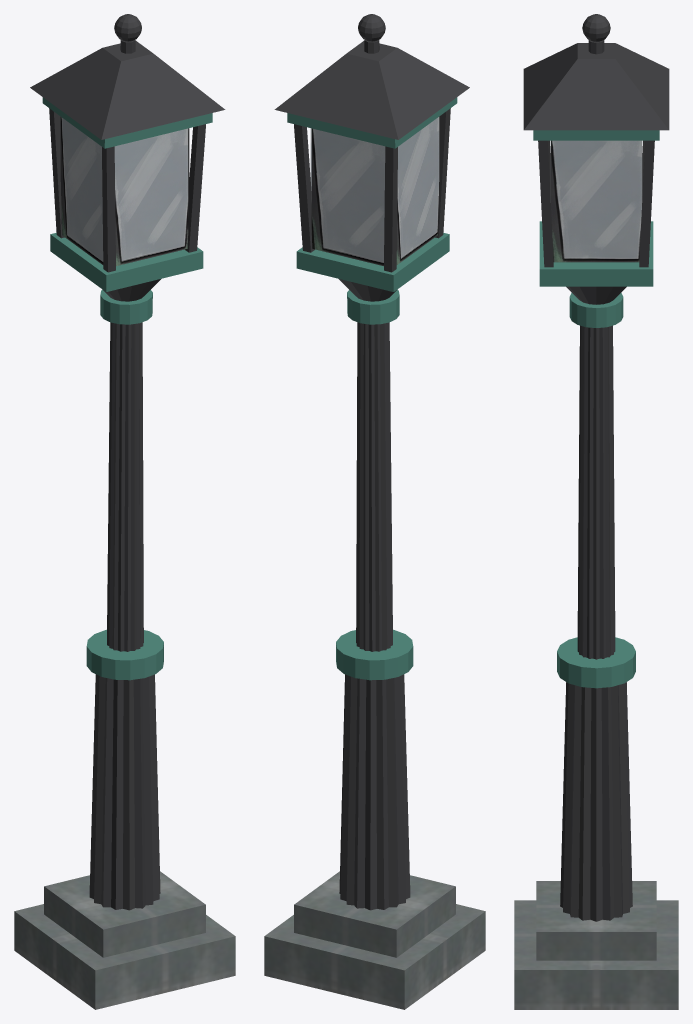
Rendered from lamp_post.glb.
The picture shows the model from 3 angles, left to right: view 1: azimuth 30°, elevation 25°; view 2: azimuth 150°, elevation 25°; view 3: azimuth 270°, elevation 25°; orthographic projection.
Visible parts, largest first — view 1: post, glass; view 2: post, glass; view 3: post, glass.
Boxes of the visible parts, <box> form: post: <box>14,14,235,1009</box>; glass: <box>60,117,189,265</box>; post: <box>264,14,485,1009</box>; glass: <box>310,117,439,265</box>; post: <box>514,14,678,1009</box>; glass: <box>550,140,642,262</box>.
Size of the model in its own units: 0.52 by 3.36 by 0.52.
Materials: 4 (2 with a texture image).
